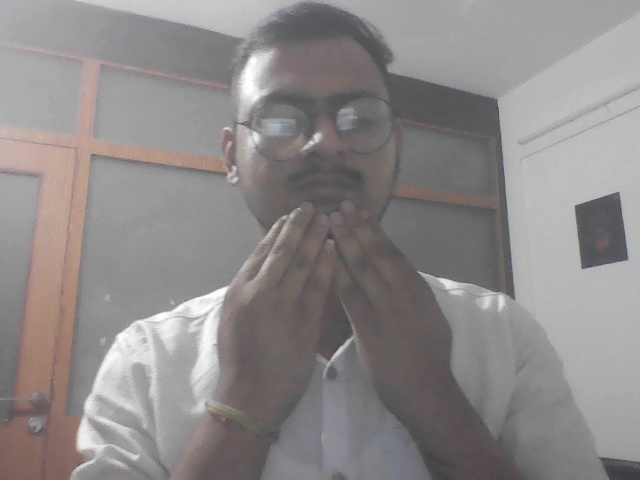ThankYou: (187, 195, 465, 428)
